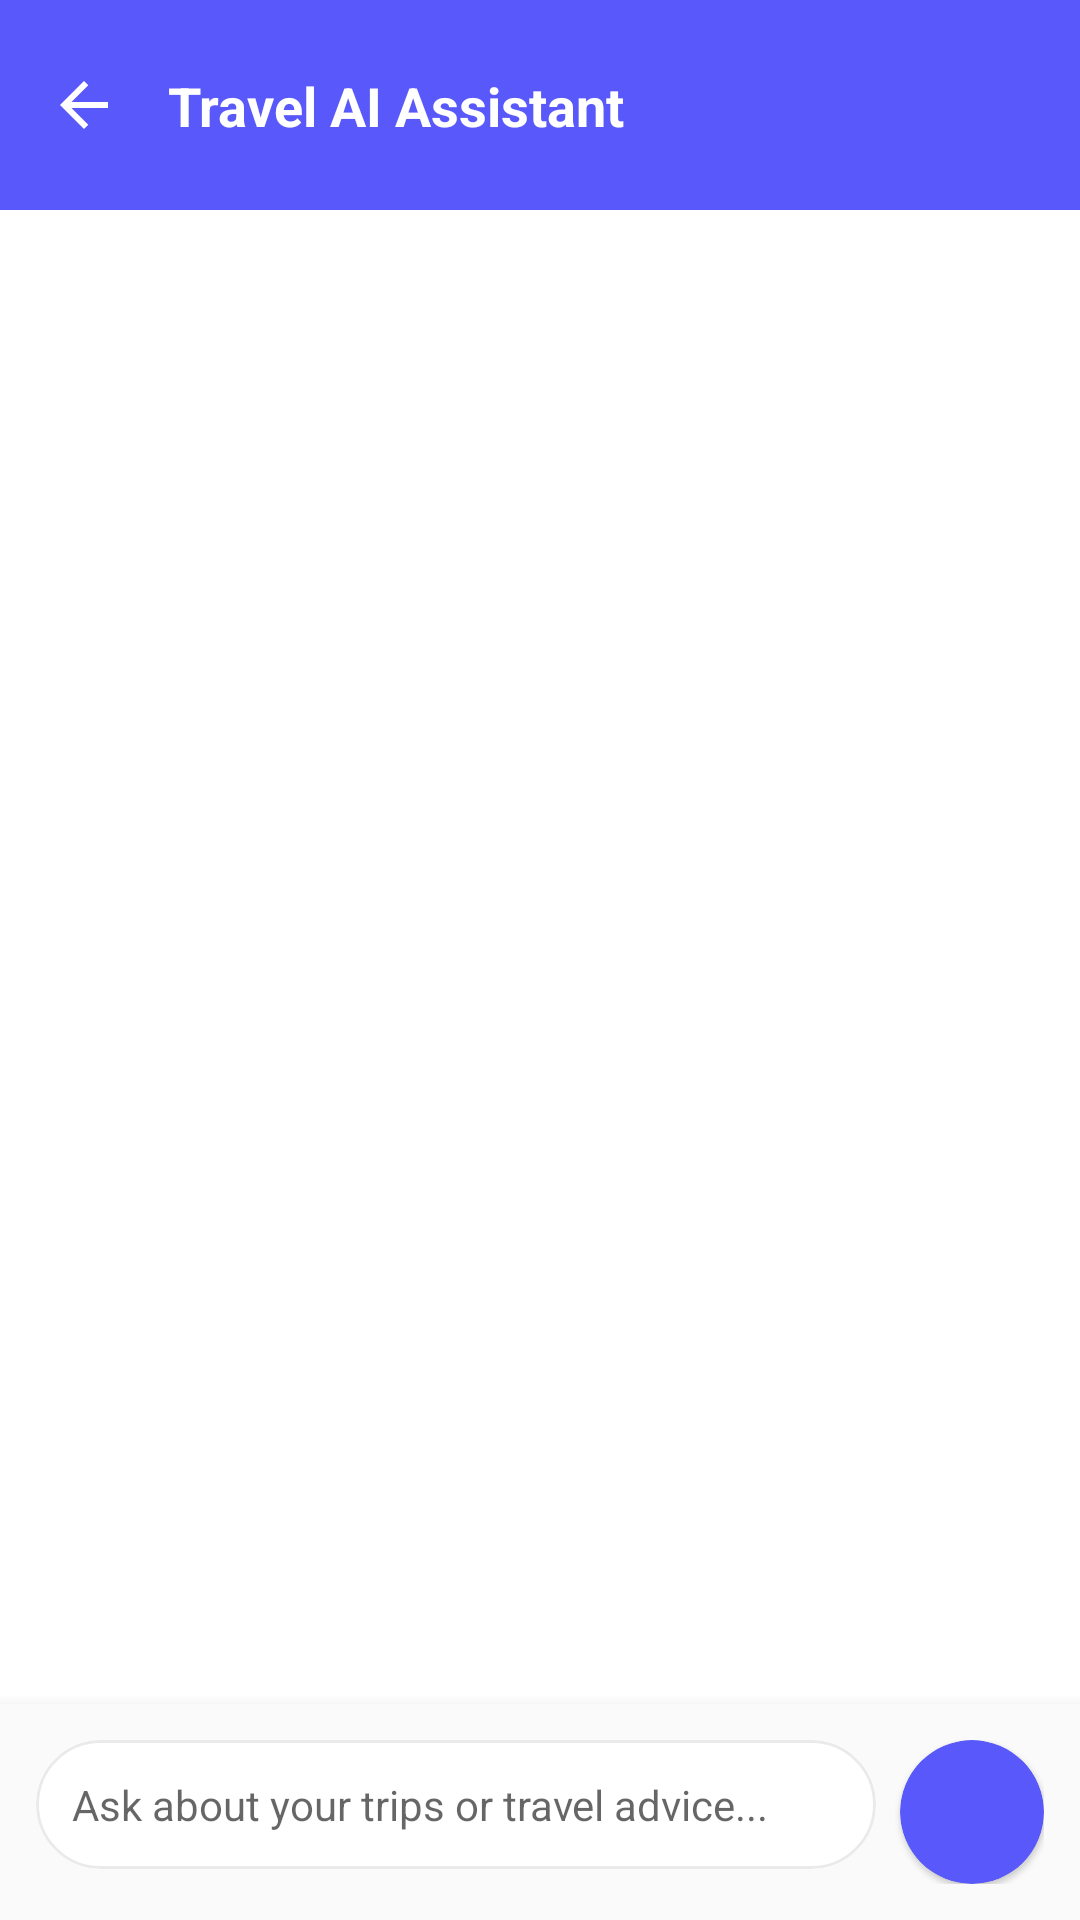

Locate icon controls on the screen. Image size 1080x1920, boxes as (x1, y1, x2, y2).
back: (60, 81, 108, 129)
